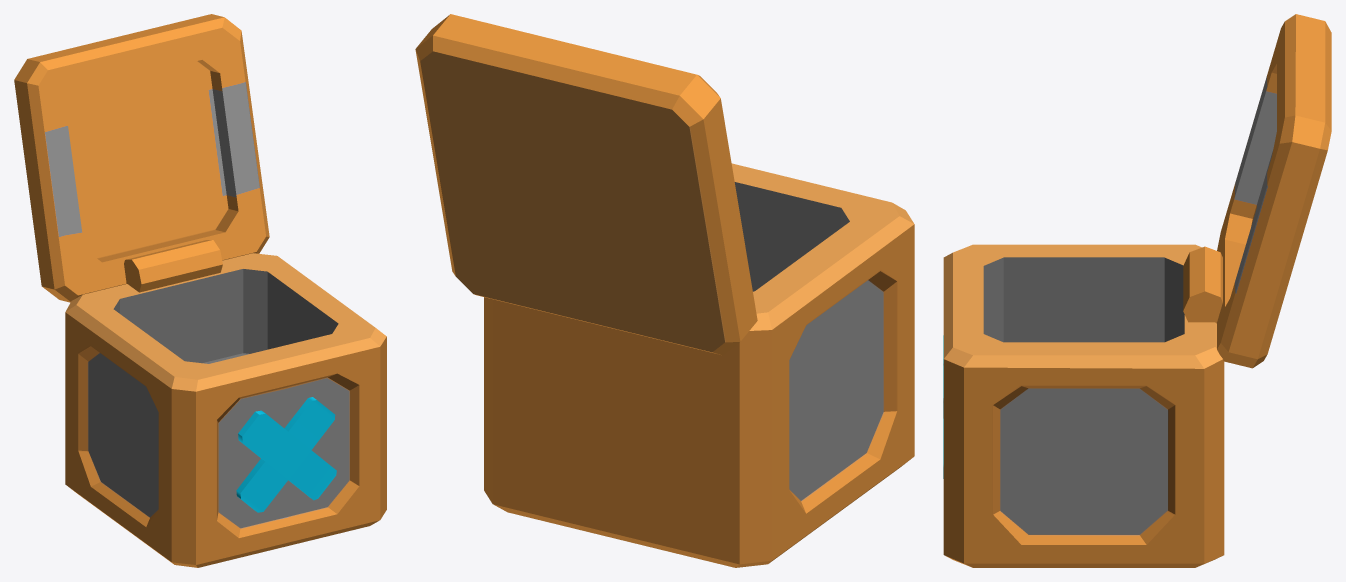
The model's file is BLD_Chest.fbx.
The picture shows the model from 3 angles, left to right: view 1: azimuth 30°, elevation 25°; view 2: azimuth 150°, elevation 25°; view 3: azimuth 270°, elevation 25°; orthographic projection. The views are drawn at different scales.
Parts seen in each view (by area): view 1: BLD_Chest_A, BLD_Chest_A_cap; view 2: BLD_Chest_A, BLD_Chest_A_cap; view 3: BLD_Chest_A, BLD_Chest_A_cap.
Boxes of the visible parts, x1,y1,x2,y2 form: BLD_Chest_A: (65,240,386,567); BLD_Chest_A_cap: (14,14,269,302); BLD_Chest_A: (484,163,914,567); BLD_Chest_A_cap: (415,14,757,355); BLD_Chest_A: (943,244,1224,567); BLD_Chest_A_cap: (1217,14,1331,368).
Bounding box in the file's own units: 18.83 × 33.16 × 26.06.
